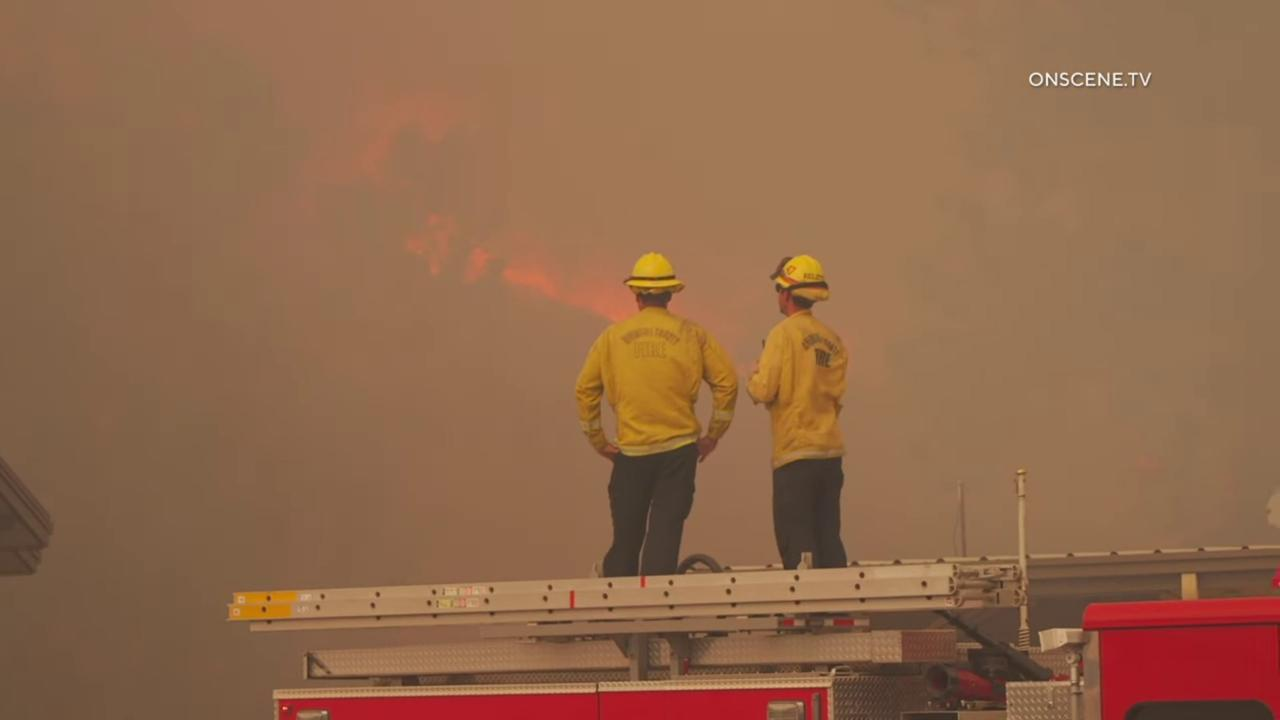fire: (402, 207, 638, 325)
smoke: (0, 0, 1280, 720)
